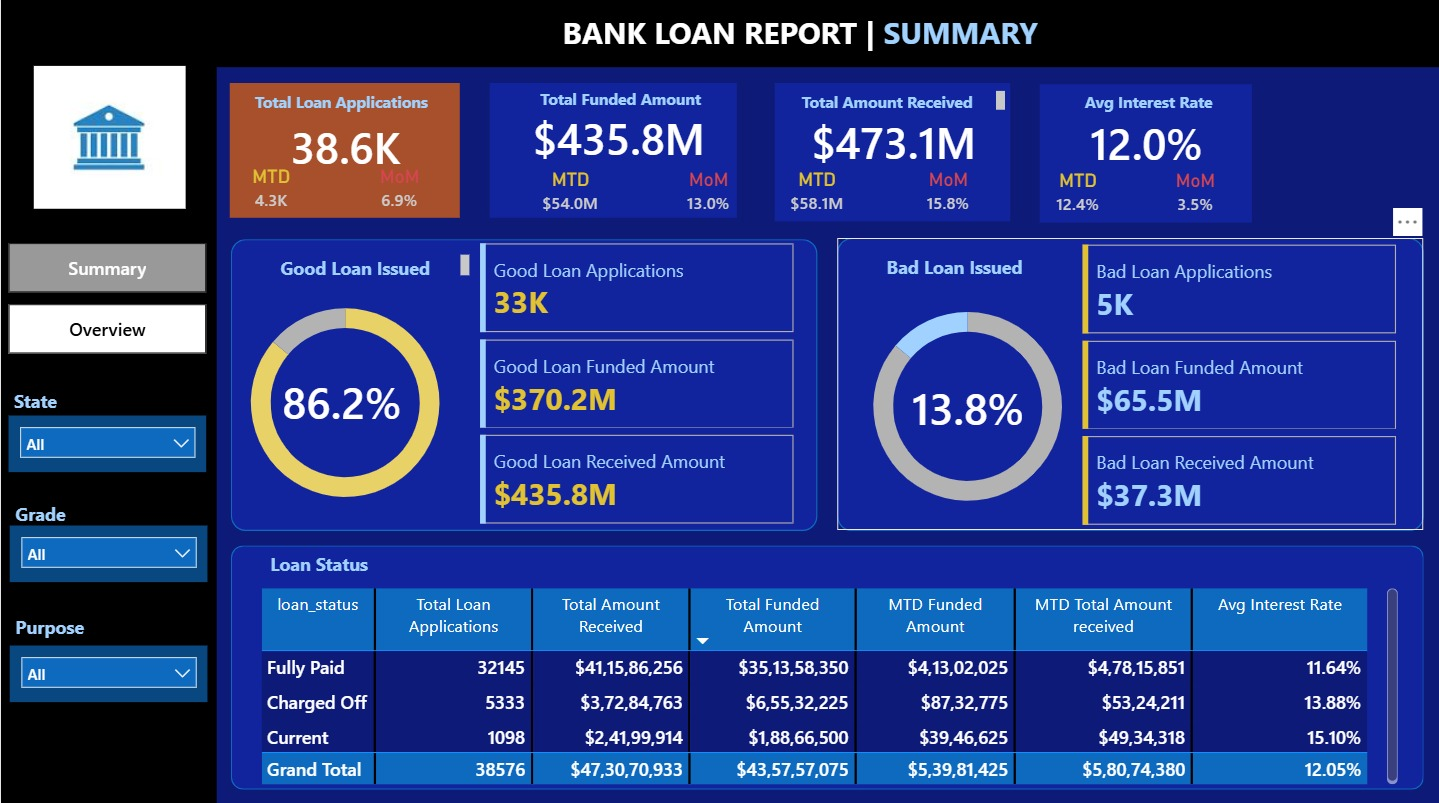

This screenshot's page, from the dashboard's own definition file:
{"tool":"powerbi","page":{"name":"Summary","canvas":[1280,720],"ordinal":0},"visuals":[{"type":"textbox","box":[204.3,75.2,205.1,120.3],"z":0,"group":"g1"},{"type":"textbox","box":[688.9,75.2,209.4,123],"z":0,"group":"g2"},{"type":"textbox","box":[924.5,76.5,189.1,123],"z":0,"group":"g3"},{"type":"shape","box":[205,214.6,522.1,259.7],"z":0},{"type":"textbox","box":[434.6,75.2,220,120.3],"z":1000,"group":"g4"},{"type":"card","fields":{"Values":["financial_loan.Total Amount Received"]},"box":[661,95,267.9,64.2],"z":1000,"group":"g2"},{"type":"card","fields":{"Values":["financial_loan.Avg Interest Rate"]},"box":[899.3,96.3,241.9,64.2],"z":1000,"group":"g3"},{"type":"card","fields":{"Values":["financial_loan.Total Loan Applications"]},"box":[176.3,100.6,262.4,62.8],"z":1000,"group":"g1"},{"type":"card","fields":{"Values":["financial_loan.Good Loan %"]},"box":[225.5,328,155.8,62.9],"z":1000},{"type":"shape","box":[0,0,1280.6,61.7],"z":2000},{"type":"textbox","box":[937.2,77.1,169.5,28.7],"z":2000,"group":"g3"},{"type":"textbox","box":[218,77.7,172,33.4],"z":2000,"group":"g1"},{"type":"textbox","box":[687,77.7,211.8,27.3],"z":2000,"group":"g2"},{"type":"shape","box":[0,61.7,192,658.1],"z":3000},{"type":"card","fields":{"Values":["financial_loan.Total Funded Amount"]},"box":[409.1,91.6,281.5,64.2],"z":3000,"group":"g4"},{"type":"card","title":"MTD","fields":{"Values":["financial_loan.MTD Loan Applications"]},"box":[204.3,148.7,73.9,46.8],"z":3000,"group":"g1"},{"type":"card","title":"MTD","fields":{"Values":["financial_loan.MTD Total Amount received"]},"box":[688.9,150.4,75.4,47.8],"z":3000,"group":"g2"},{"type":"card","title":"MTD","fields":{"Values":["financial_loan.MTD Avg Int Rate"]},"box":[924.5,151.7,68.1,47.8],"z":3000,"group":"g3"},{"type":"textbox","box":[472.9,8.2,477,47.8],"z":4000},{"type":"card","title":"MoM","fields":{"Values":["financial_loan.MoM Loan Applications"]},"box":[307.5,148.7,95.5,46.8],"z":4000,"group":"g1"},{"type":"card","title":"MoM","fields":{"Values":["financial_loan.MoM Total Amount Receievd"]},"box":[794.2,150.4,97.5,47.8],"z":4000,"group":"g2"},{"type":"card","title":"MoM","fields":{"Values":["financial_loan.MoM Avg Int Rate"]},"box":[1019.6,151.7,88.1,47.8],"z":4000,"group":"g3"},{"type":"group","id":"g1","title":"Group 1","box":[176.3,75.2,262.4,120.3],"z":5000},{"type":"textbox","box":[439.2,75.2,224.1,30.1],"z":5000,"group":"g4"},{"type":"card","title":"MTD","fields":{"Values":["financial_loan.MTD Funded Amount"]},"box":[467.1,150.4,79.3,47.8],"z":6000,"group":"g4"},{"type":"textbox","box":[217.3,224.1,205,30.1],"z":6000},{"type":"group","id":"g2","title":"Group 1","box":[661,75.2,267.9,123],"z":7000},{"type":"card","title":"MoM","fields":{"Values":["financial_loan.MoM Total Funded Amount"]},"box":[577.8,150.4,102.5,47.8],"z":7000,"group":"g4"},{"type":"group","id":"g3","title":"Group 1","box":[899.3,76.5,241.9,123],"z":8000},{"type":"group","id":"g4","title":"Group 2","box":[409.1,75.2,281.5,123],"z":9000},{"type":"shape","box":[744.8,213.2,522.1,261],"z":10000},{"type":"donutChart","fields":{"Category":["financial_loan.Good Vs Bad Loan"],"Y":["financial_loan.Total Loan Applications"]},"box":[174.9,250.1,263.8,220],"z":11000},{"type":"cardVisual","fields":{"Data":["financial_loan.Good Loan Applications","financial_loan.Good Loan Received Amount","financial_loan.Good Loan Received Amount1"]},"box":[422.3,213.2,289.7,261],"z":12000},{"type":"donutChart","fields":{"Category":["financial_loan.Good Vs Bad Loan"],"Y":["financial_loan.Total Loan Applications"]},"box":[728.4,254.2,263.8,220],"z":13000},{"type":"textbox","box":[783.1,224.1,146.2,32.8],"z":14000},{"type":"card","fields":{"Values":["financial_loan.Bad Loan %"]},"box":[783.1,333.5,155.8,62.9],"z":15000},{"type":"cardVisual","fields":{"Data":["financial_loan.Bad Loan Applications","financial_loan.Bad Loan Funded Amount","financial_loan.Bad Loan Received Amount"]},"box":[958,214.6,289.7,261],"z":16000},{"type":"shape","box":[205,487.9,1061.9,217.3],"z":17000},{"type":"tableEx","fields":{"Values":["financial_loan.loan_status","financial_loan.Total Loan Applications","financial_loan.Total Amount Received","financial_loan.Total Funded Amount","financial_loan.MTD Funded Amount","financial_loan.MTD Total Amount received","financial_loan.Avg Interest Rate"]},"box":[225.5,520.7,1022.3,184.5],"z":18000},{"type":"textbox","box":[235.1,487.9,135.3,32.8],"z":19000},{"type":"slicer","fields":{"Values":["financial_loan.address_state"]},"box":[6.8,371.7,176.3,50.6],"z":20000},{"type":"textbox","box":[6.8,343,61.5,32.8],"z":21000},{"type":"slicer","fields":{"Values":["financial_loan.grade"]},"box":[8.2,470.1,176.3,50.6],"z":22000},{"type":"textbox","box":[8.2,442.8,72.4,32.8],"z":23000},{"type":"slicer","fields":{"Values":["financial_loan.purpose"]},"box":[8.2,576.7,176.3,50.6],"z":24000},{"type":"textbox","box":[8.2,543.9,90.2,32.8],"z":25000},{"type":"pageNavigator","box":[6.8,218.7,176.3,98.4],"z":26000},{"type":"image","box":[15,56,162.6,136.7],"z":27000}]}

Visuals, with their boxes in screenshot pixels (x1, y1, x2, y2), scaled from the page's 1280x720 canvas onto the 1439x803 screenshot:
textbox: crop(230, 84, 460, 218)
textbox: crop(774, 84, 1010, 221)
textbox: crop(1039, 85, 1252, 222)
shape: crop(230, 239, 817, 529)
textbox: crop(489, 84, 736, 218)
card - financial_loan.Total Amount Received: crop(743, 106, 1044, 178)
card - financial_loan.Avg Interest Rate: crop(1011, 107, 1283, 179)
card - financial_loan.Total Loan Applications: crop(198, 112, 493, 182)
card - financial_loan.Good Loan %: crop(254, 366, 429, 436)
shape: crop(0, 0, 1438, 69)
textbox: crop(1054, 86, 1244, 118)
textbox: crop(245, 87, 438, 124)
textbox: crop(772, 87, 1010, 117)
shape: crop(0, 69, 216, 802)
card - financial_loan.Total Funded Amount: crop(460, 102, 776, 174)
"MTD" card: crop(230, 166, 313, 218)
"MTD" card: crop(774, 168, 859, 221)
"MTD" card: crop(1039, 169, 1116, 222)
textbox: crop(532, 9, 1068, 62)
"MoM" card: crop(346, 166, 453, 218)
"MoM" card: crop(893, 168, 1002, 221)
"MoM" card: crop(1146, 169, 1245, 222)
"Group 1" group: crop(198, 84, 493, 218)
textbox: crop(494, 84, 746, 117)
"MTD" card: crop(525, 168, 614, 221)
textbox: crop(244, 250, 475, 284)
"Group 1" group: crop(743, 84, 1044, 221)
"MoM" card: crop(650, 168, 765, 221)
"Group 1" group: crop(1011, 85, 1283, 222)
"Group 2" group: crop(460, 84, 776, 221)
shape: crop(837, 238, 1424, 529)
donutChart - financial_loan.Good Vs Bad Loan x financial_loan.Total Loan Applications: crop(197, 279, 493, 524)
cardVisual - financial_loan.Good Loan Applications x financial_loan.Good Loan Received Amount: crop(475, 238, 800, 529)
donutChart - financial_loan.Good Vs Bad Loan x financial_loan.Total Loan Applications: crop(819, 284, 1115, 529)
textbox: crop(880, 250, 1045, 287)
card - financial_loan.Bad Loan %: crop(880, 372, 1056, 442)
cardVisual - financial_loan.Bad Loan Applications x financial_loan.Bad Loan Funded Amount: crop(1077, 239, 1403, 530)
shape: crop(230, 544, 1424, 786)
tableEx - financial_loan.loan_status x financial_loan.Total Loan Applications: crop(254, 581, 1403, 786)
textbox: crop(264, 544, 416, 581)
slicer - financial_loan.address_state: crop(8, 415, 206, 471)
textbox: crop(8, 383, 77, 419)
slicer - financial_loan.grade: crop(9, 524, 207, 581)
textbox: crop(9, 494, 91, 530)
slicer - financial_loan.purpose: crop(9, 643, 207, 700)
textbox: crop(9, 607, 111, 643)
pageNavigator: crop(8, 244, 206, 354)
image: crop(17, 62, 200, 215)
